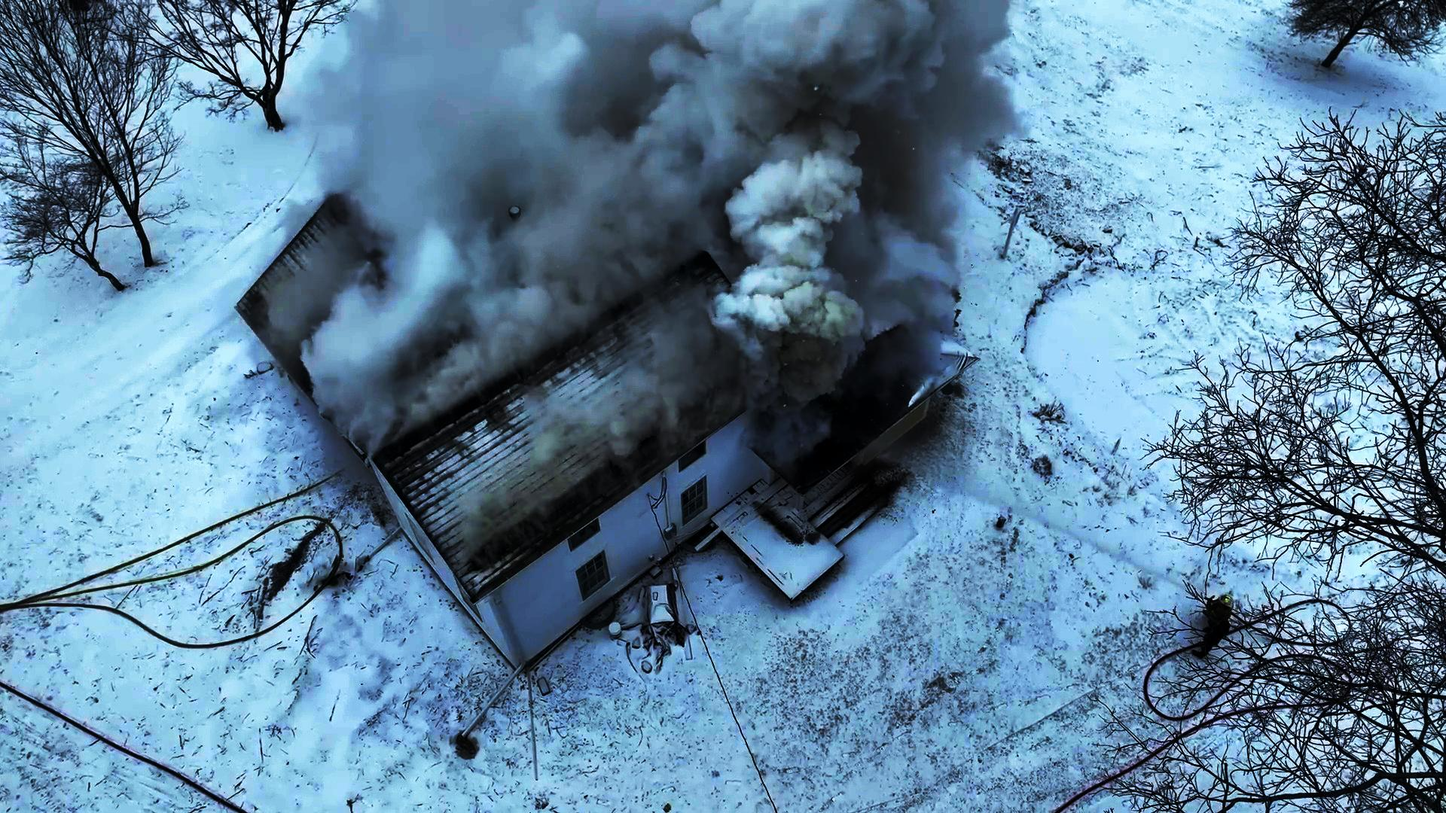smoke: (720, 62, 858, 434)
